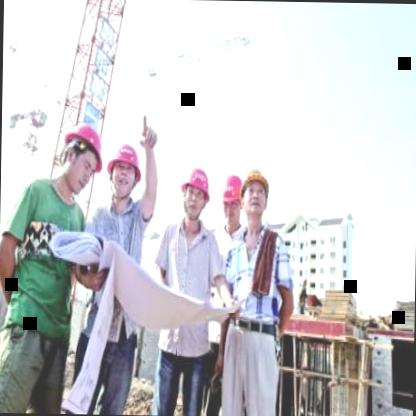helmet: (53, 114, 106, 198), (105, 136, 143, 204), (177, 161, 213, 226), (240, 160, 271, 226), (219, 171, 244, 225)
